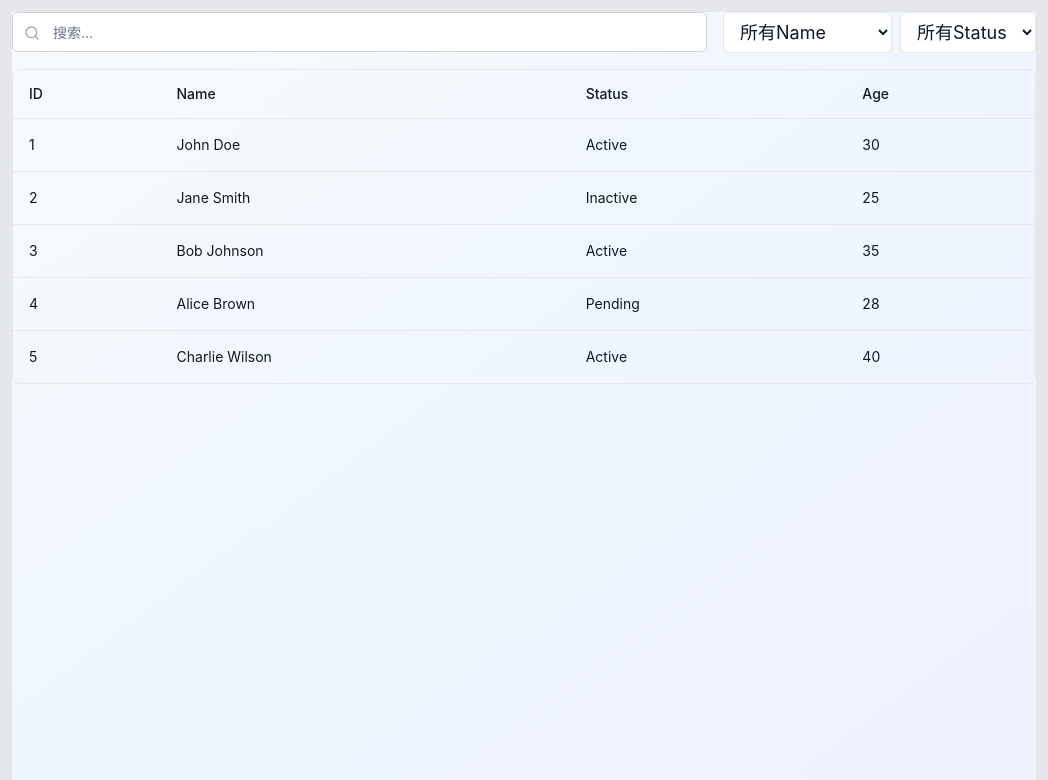
Test: DataTable Component › Filter Functionality › should filter data by column value
Select "Active" in the 2nd dropdown "所有Status" at (968, 32), box [900,12,1036,53]
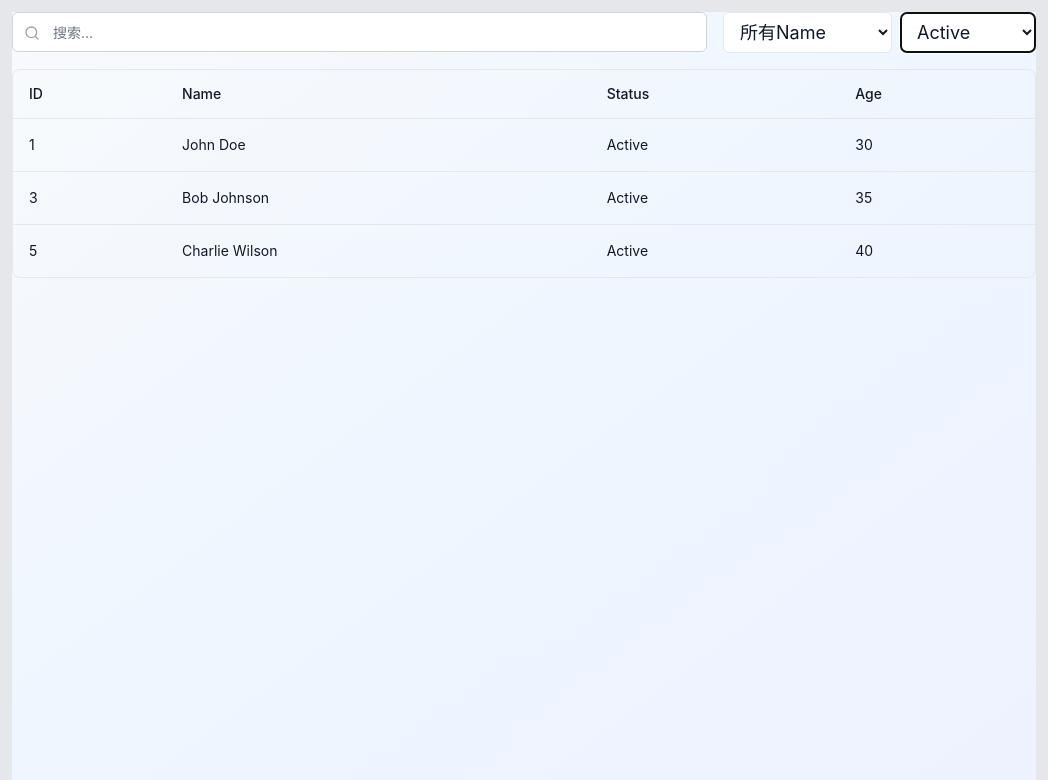
Expected: the text "John Doe" is shown, [166,118,591,171]
Now the text "Jane Smith" is gone
